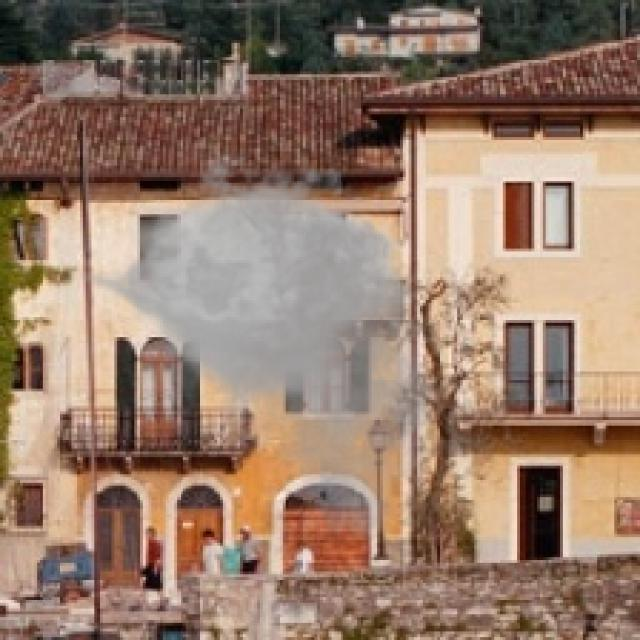smoke: (66, 137, 454, 546)
